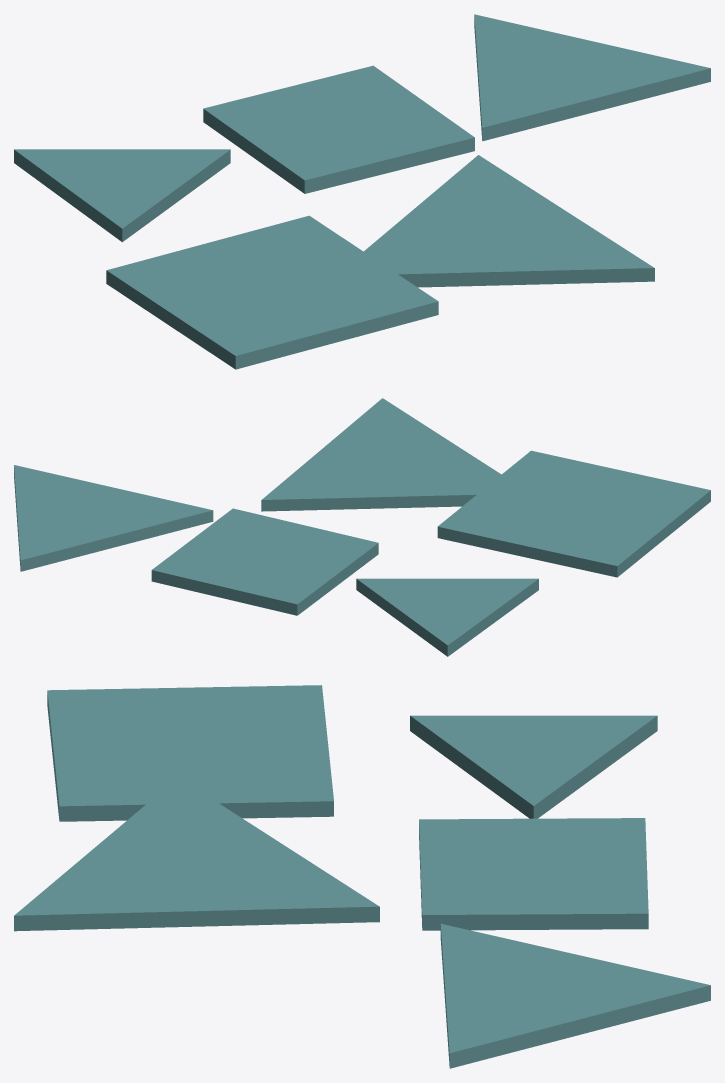
File: scavengers-loot-library-glass-shards-b7690029__2632.glb
3 views of the same model, one above another, from view 1: azimuth 30°, elevation 25°; view 2: azimuth 150°, elevation 25°; view 3: azimuth 270°, elevation 25° (orthographic). The views are drawn at different scales.
Parts seen in each view (by area): view 1: glass-shards; view 2: glass-shards; view 3: glass-shards.
Part boxes in pixels (x1,y1,x2,y2): glass-shards: (14, 14, 710, 369); glass-shards: (14, 398, 710, 656); glass-shards: (14, 685, 710, 1068).
Bounding box in the file's own units: 0.1524 × 0.00299 × 0.1219.
